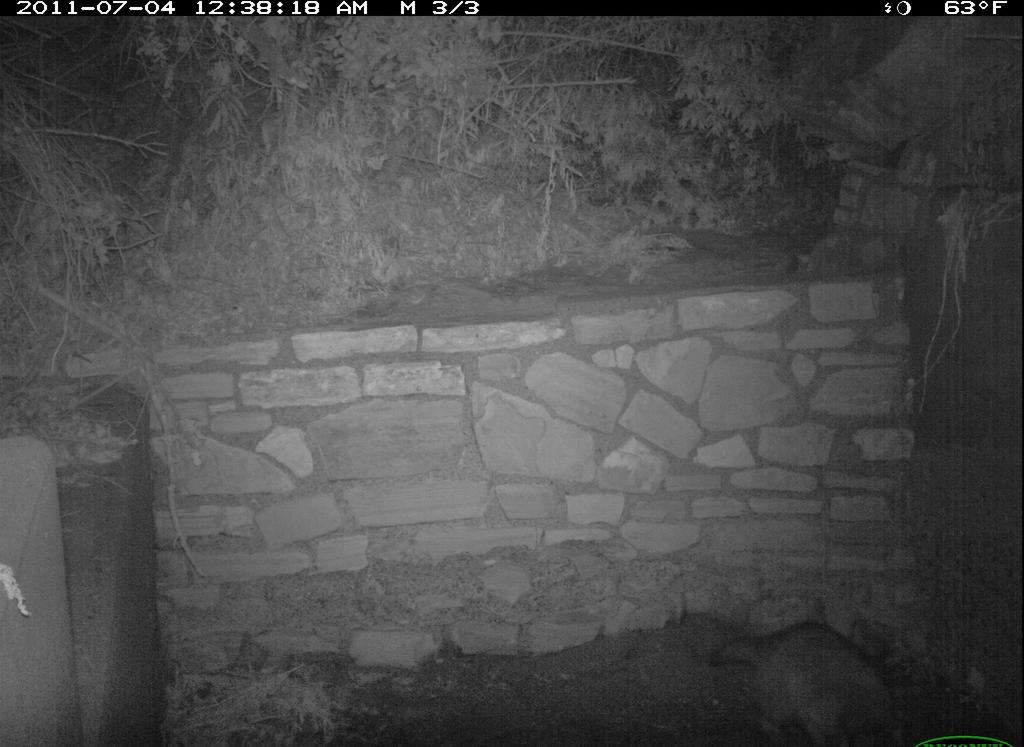raccoon: (705, 615, 909, 747)
